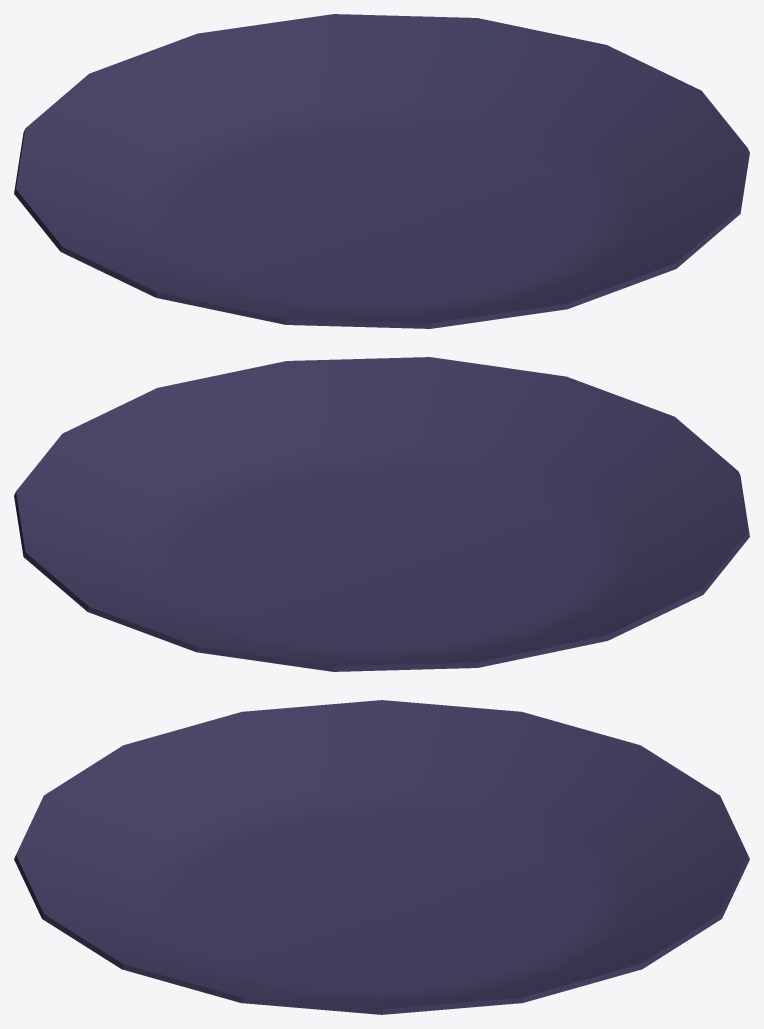
Rendered from plate4.fbx.
3 renders of one model, top to bottom at view 1: azimuth 30°, elevation 25°; view 2: azimuth 150°, elevation 25°; view 3: azimuth 270°, elevation 25°, orthographic.
Parts seen in each view (by area): view 1: plate4; view 2: plate4; view 3: plate4.
Part boxes in pixels (left/top/right/bottom): plate4: left=14, top=14, right=749, bottom=328; plate4: left=14, top=357, right=749, bottom=671; plate4: left=14, top=700, right=749, bottom=1014.
Size of the model in its own units: 0.3655 by 0.029 by 0.3655.
